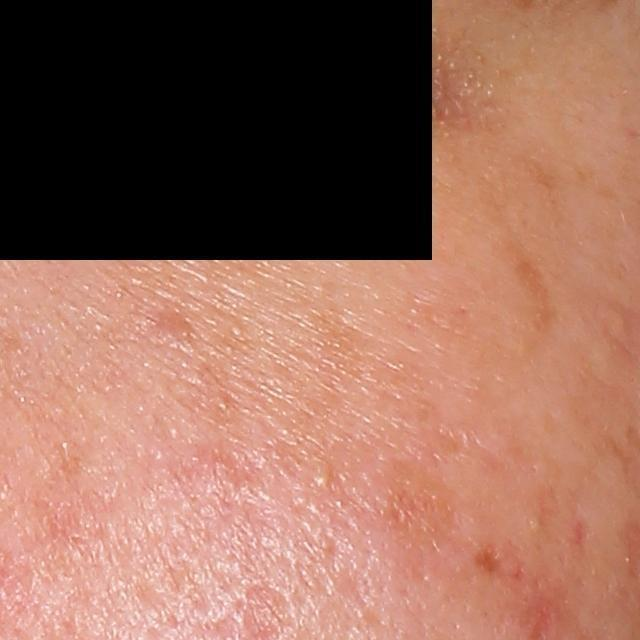comedo: (308, 470, 334, 489)
